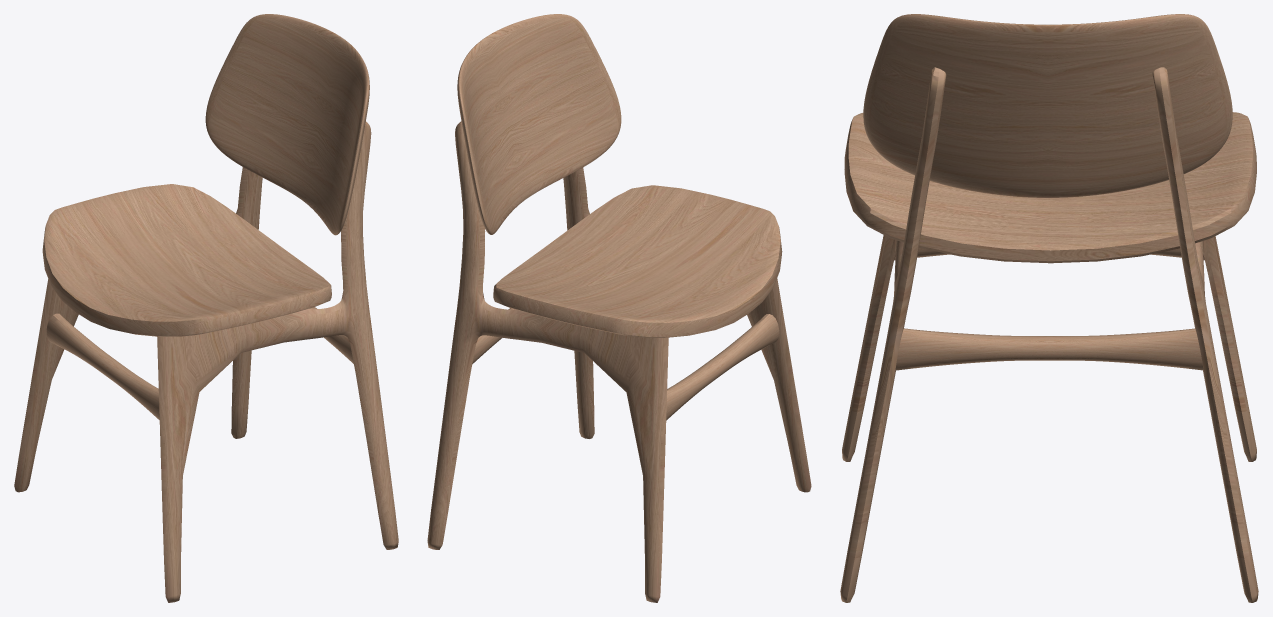
File: silla.glb
3 renders of one model, left to right at view 1: azimuth 30°, elevation 25°; view 2: azimuth 150°, elevation 25°; view 3: azimuth 270°, elevation 25°, orthographic. The views are drawn at different scales.
Visible parts, largest first — view 1: asiento, Pata de silla.002, Respaldo, Agarre inferior delantero; view 2: asiento, Pata de silla.002, Respaldo, Agarre inferior delantero; view 3: Respaldo, asiento, Pata de silla.002, Agarre inferior trasero.
Boxes of the visible parts, box(x1,y1,x2,y2) form: asiento: box(42, 184, 331, 336); Pata de silla.002: box(14, 121, 398, 602); Respaldo: box(205, 14, 369, 235); Agarre inferior delantero: box(46, 313, 159, 419); asiento: box(493, 185, 782, 337); Pata de silla.002: box(427, 121, 811, 602); Respaldo: box(457, 14, 621, 234); Agarre inferior delantero: box(666, 314, 779, 420); Respaldo: box(863, 14, 1232, 197); asiento: box(844, 112, 1256, 263); Pata de silla.002: box(840, 67, 1258, 602); Agarre inferior trasero: box(895, 328, 1203, 370).
Size of the model in its own units: 2.58 by 4.1 by 2.62.
Materials: 1 (1 with a texture image).
